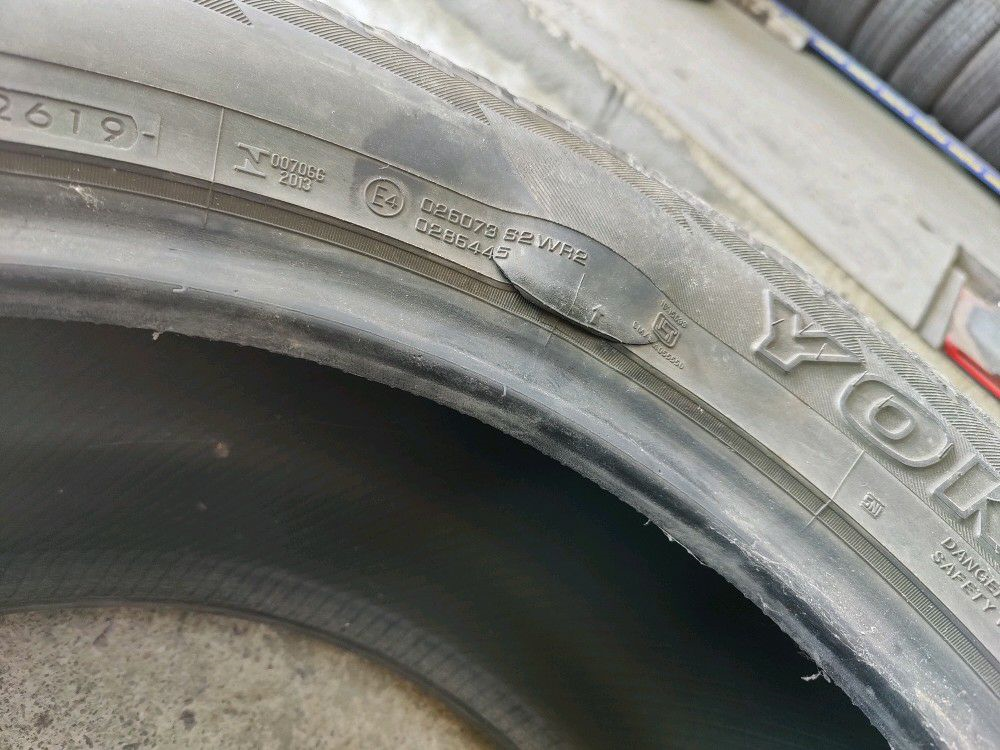CBU: (481, 169, 734, 380)
cut: (490, 251, 660, 348)
